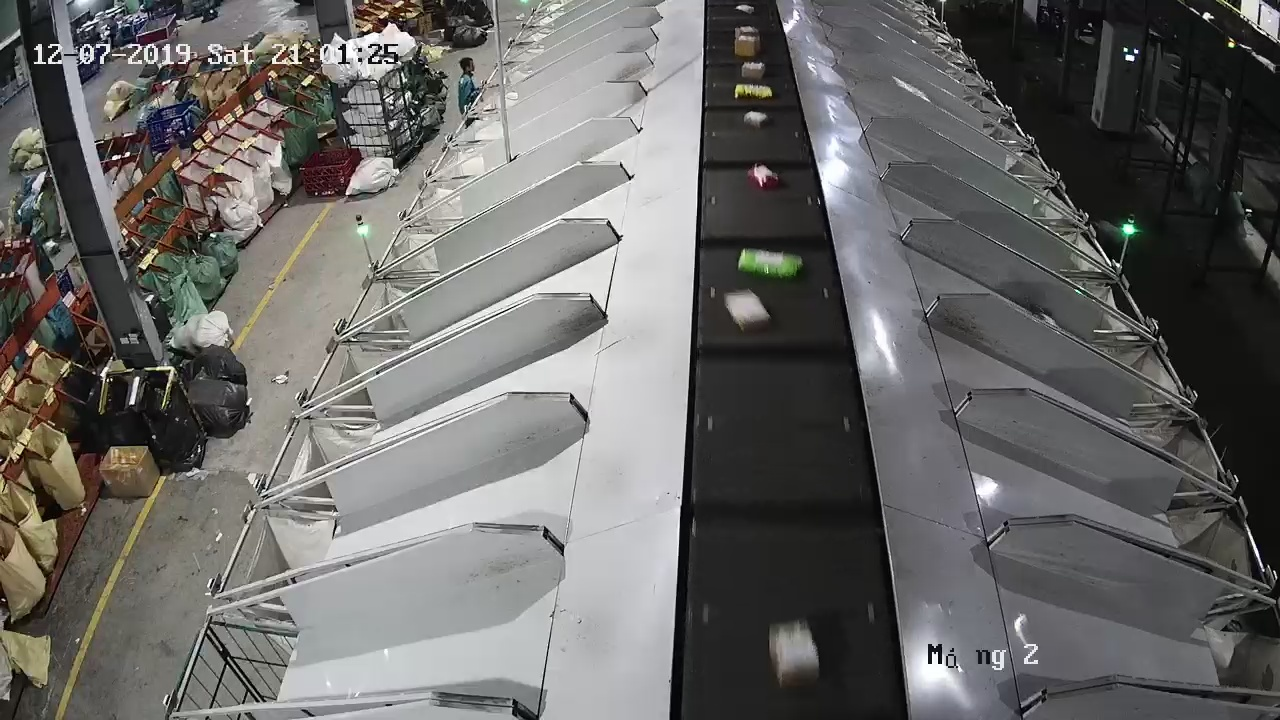parcel: (723, 288, 773, 335)
